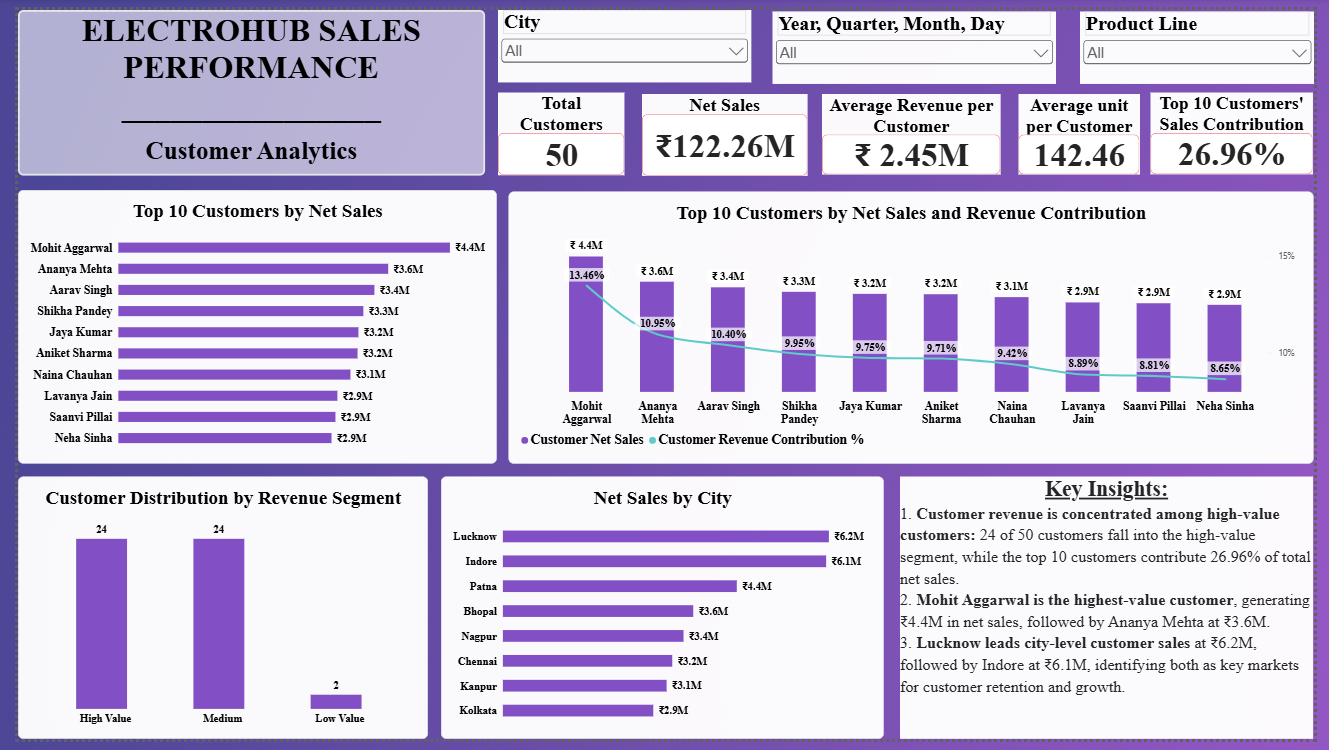

What the dashboard file says about the page in this screenshot:
{"tool":"powerbi","page":{"name":"Customer Analytics","canvas":[1920,1080],"ordinal":3},"visuals":[{"type":"cardVisual","title":"Net Sales","fields":{"Data":["Sum(FactSales.Net Sales)"]},"box":[925.4,123.9,245.3,121.4],"z":0},{"type":"cardVisual","title":"Top 10 Customers'' Sales Contribution","fields":{"Data":["Measure Table.Top 10 Customers Contribution %"]},"box":[1678.3,121.4,240.5,121.4],"z":1000},{"type":"cardVisual","title":"Total Customers","fields":{"Data":["Measure Table.Total Customer"]},"box":[710,122.5,187.5,122.5],"z":2000},{"type":"cardVisual","title":"Average Revenue per Customer","fields":{"Data":["Measure Table.Avg Rev per Customer"]},"box":[1190.1,123.9,264.7,119],"z":3000},{"type":"slicer","title":"City","fields":{"Values":["Dim Customers.City"]},"box":[710,0,375,107.5],"z":4000},{"type":"slicer","title":"City","fields":{"Values":["FactSales.Date (dd/mm/yyyy).Variation.Date Hierarchy.Year","FactSales.Date (dd/mm/yyyy).Variation.Date Hierarchy.Quarter","FactSales.Date (dd/mm/yyyy).Variation.Date Hierarchy.Month","FactSales.Date (dd/mm/yyyy).Variation.Date Hierarchy.Day"]},"box":[1118.8,2.5,420,107.5],"z":5000},{"type":"slicer","title":"City","fields":{"Values":["Dim Product.Product Line"]},"box":[1572.5,2.5,347.5,107.5],"z":6000},{"type":"textbox","box":[0,0,692.2,245.3],"z":7000},{"type":"cardVisual","title":"Average unit per Customer","fields":{"Data":["Measure Table.Avg Unit per Customer"]},"box":[1481.6,123.9,179.7,119],"z":8000},{"type":"clusteredBarChart","title":"Top 10 Customers by Net Sales ","fields":{"Category":["Dim Customers.Customer Name"],"Y":["Sum(FactSales.Net Sales)"]},"box":[0,267.2,709.2,405.6],"z":9000},{"type":"clusteredBarChart","title":"Net Sales by City","fields":{"Category":["Dim Customers.City"],"Y":["Sum(FactSales.Net Sales)"]},"box":[626.6,692.2,655.8,388.6],"z":10000},{"type":"clusteredColumnChart","title":"Customer Distribution by Revenue Segment","fields":{"Category":["Customer Segments.Segment"],"Y":["Measure Table.Customers by Revenue Segment"]},"box":[0,692.2,607.2,388.6],"z":11000},{"type":"lineStackedColumnComboChart","title":"Top 10 Customers by Net Sales and Revenue Contribution","fields":{"Category":["Dim Customers.Customer Name"],"Y":["Measure Table.Customer Net Sales"],"Y2":["Measure Table.Customer Revenue Contribution %"]},"box":[726.2,269.6,1192.6,403.2],"z":12000},{"type":"textbox","box":[1306.7,692.2,612.1,388.6],"z":13000}]}

Visuals, with their boxes in screenshot pixels (x1, y1, x2, y2), scaled from the page's 1920x1080 canvas onto the 1329x750 screenshot:
"Net Sales" cardVisual: locate(641, 86, 810, 170)
"Top 10 Customers'' Sales Contribution" cardVisual: locate(1162, 84, 1328, 169)
"Total Customers" cardVisual: locate(491, 85, 621, 170)
"Average Revenue per Customer" cardVisual: locate(824, 86, 1007, 169)
"City" slicer: locate(491, 0, 751, 75)
"City" slicer: locate(774, 2, 1065, 76)
"City" slicer: locate(1088, 2, 1328, 76)
textbox: locate(0, 0, 479, 170)
"Average unit per Customer" cardVisual: locate(1026, 86, 1150, 169)
"Top 10 Customers by Net Sales " clusteredBarChart: locate(0, 186, 491, 467)
"Net Sales by City" clusteredBarChart: locate(434, 481, 888, 749)
"Customer Distribution by Revenue Segment" clusteredColumnChart: locate(0, 481, 420, 749)
"Top 10 Customers by Net Sales and Revenue Contribution" lineStackedColumnComboChart: locate(503, 187, 1328, 467)
textbox: locate(904, 481, 1328, 749)
